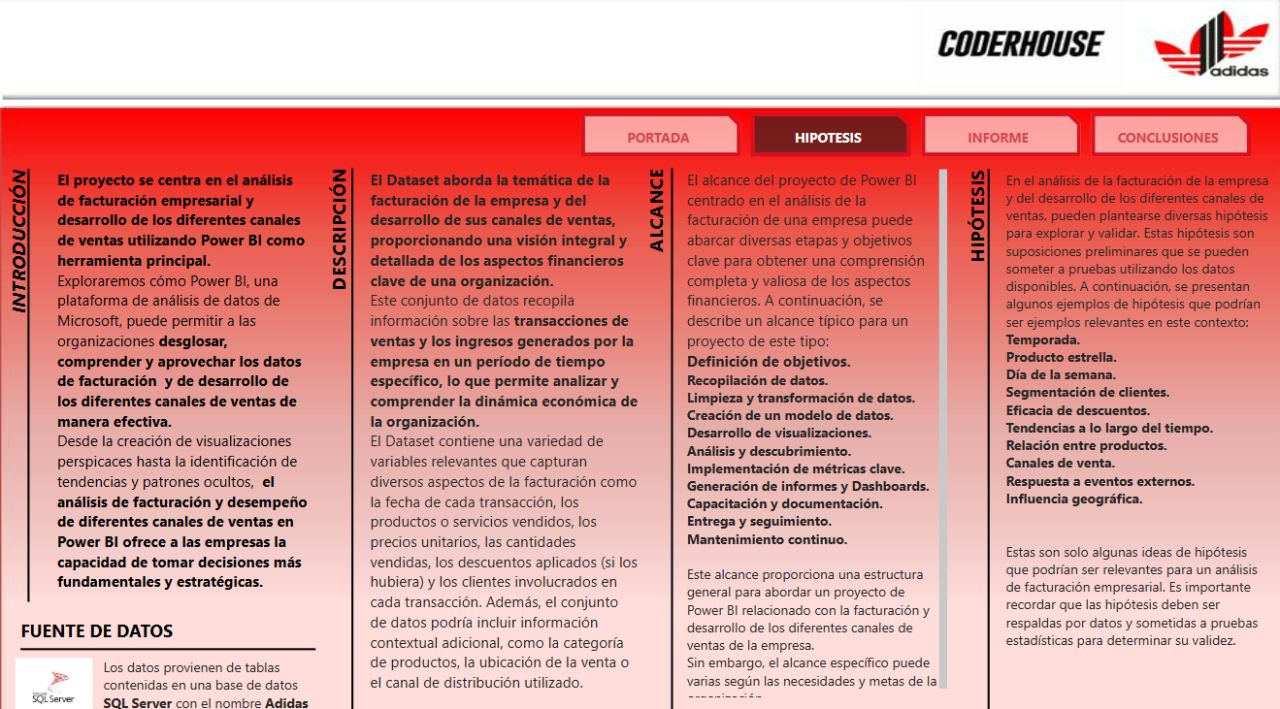

What the dashboard file says about the page in this screenshot:
{"tool":"powerbi","page":{"name":"HIPOTESIS","canvas":[1280,720],"ordinal":1},"visuals":[{"type":"textbox","title":"INTRODUCCIÓN","box":[51.9,166.5,261.8,548.9],"z":0},{"type":"shape","title":"INTRODUCION","box":[4.8,171.3,47.1,430.7],"z":1000},{"type":"shape","box":[21.1,618.9,293.3,60],"z":2000},{"type":"image","box":[10,652.2,87.8,67.8],"z":3000},{"type":"textbox","box":[97.8,652.2,224.4,67.8],"z":4000},{"type":"shape","box":[323.3,170.1,54.3,540.5],"z":5000},{"type":"textbox","box":[363.1,166.5,276.3,547.7],"z":6000},{"type":"shape","box":[639.4,170.1,57.9,540.5],"z":7000},{"type":"textbox","box":[678,166.5,269,535.7],"z":8000},{"type":"textbox","box":[995.3,167.7,271.4,545.3],"z":9000},{"type":"shape","box":[959.1,171.3,48.3,539.3],"z":10000},{"type":"pageNavigator","box":[577.9,114.6,669.6,44.6],"z":11000}]}

Visuals, with their boxes in screenshot pixels (x1, y1, x2, y2), scaled from the page's 1280x720 canvas onto the 1280x709 screenshot:
"INTRODUCCIÓN" textbox: (left=52, top=164, right=314, bottom=704)
"INTRODUCION" shape: (left=5, top=169, right=52, bottom=593)
shape: (left=21, top=609, right=314, bottom=669)
image: (left=10, top=642, right=98, bottom=708)
textbox: (left=98, top=642, right=322, bottom=708)
shape: (left=323, top=168, right=378, bottom=700)
textbox: (left=363, top=164, right=639, bottom=703)
shape: (left=639, top=168, right=697, bottom=700)
textbox: (left=678, top=164, right=947, bottom=691)
textbox: (left=995, top=165, right=1267, bottom=702)
shape: (left=959, top=169, right=1007, bottom=700)
pageNavigator: (left=578, top=113, right=1248, bottom=157)
